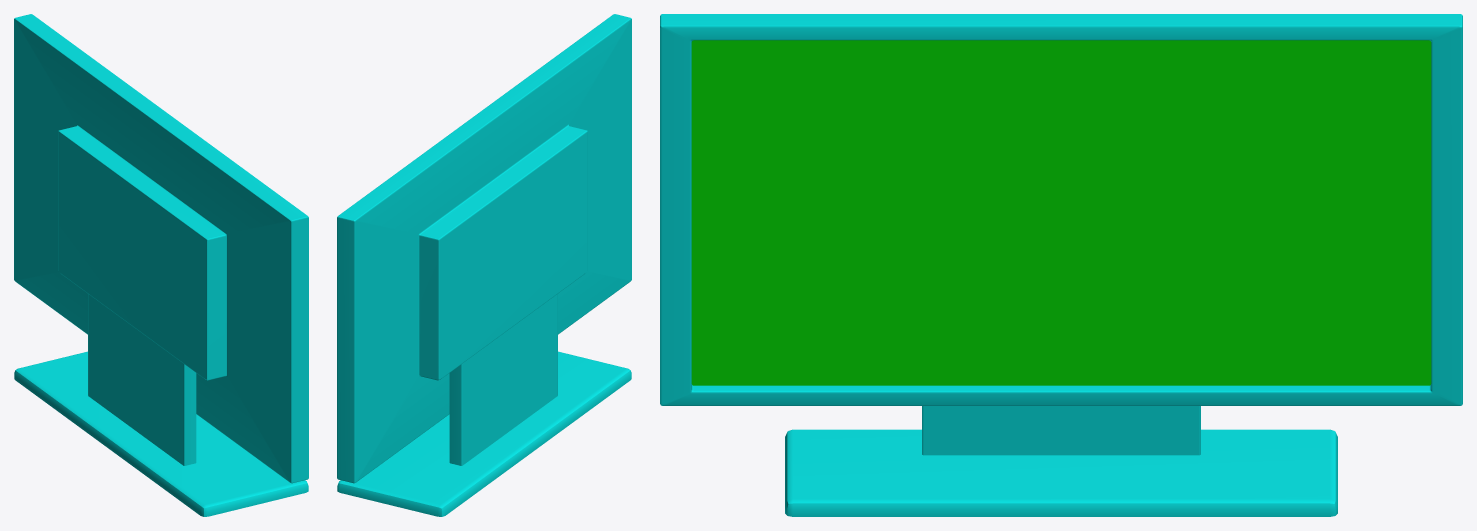
3 views of the same model, side by side, from view 1: azimuth 30°, elevation 25°; view 2: azimuth 150°, elevation 25°; view 3: azimuth 270°, elevation 25° (orthographic). The views are drawn at different scales.
Parts seen in each view (by area): view 1: Tv; view 2: Tv; view 3: Tv.
Boxes of the visible parts, bbox=[...] form: Tv: bbox=[14, 14, 308, 516]; Tv: bbox=[337, 14, 631, 516]; Tv: bbox=[660, 14, 1462, 516].
Size of the model in its own units: 25.66 by 72.37 by 115.
